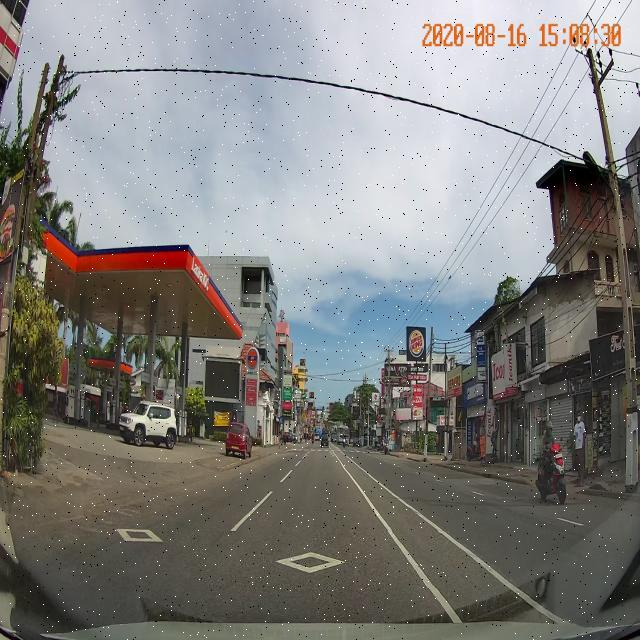diamond: (164, 531, 441, 588)
